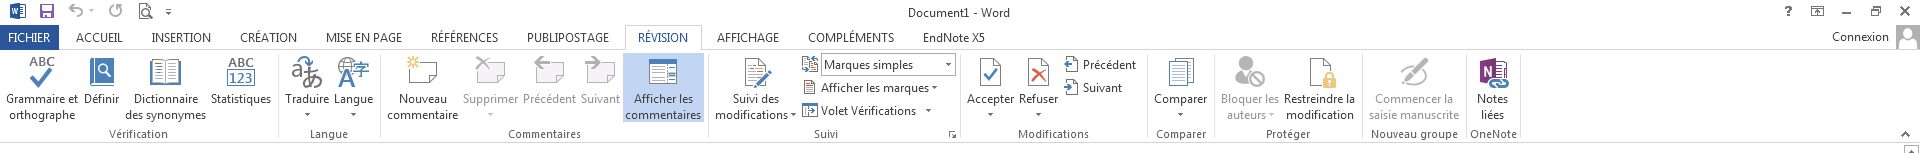texte: (649, 59, 771, 88), (409, 62, 564, 83), (29, 58, 114, 88), (230, 64, 322, 88), (1833, 24, 1920, 49), (1019, 120, 1089, 148), (804, 80, 937, 94), (1084, 48, 1136, 81), (109, 119, 167, 147), (909, 0, 969, 27), (10, 102, 75, 126), (1404, 102, 1460, 126), (873, 48, 913, 81), (10, 2, 83, 20), (629, 84, 676, 110), (809, 31, 894, 42), (1064, 80, 1122, 95), (1480, 58, 1509, 88), (354, 56, 419, 69), (535, 56, 600, 69), (1310, 58, 1336, 88), (109, 2, 153, 20), (432, 31, 498, 42), (212, 94, 271, 106), (1898, 21, 1920, 53), (528, 33, 609, 42), (1402, 58, 1428, 84), (1222, 94, 1278, 106), (716, 110, 796, 119), (464, 94, 518, 106), (1376, 94, 1452, 103), (624, 110, 700, 119), (1155, 94, 1207, 106), (327, 33, 402, 42), (7, 94, 78, 103), (509, 130, 580, 138), (241, 31, 296, 42), (733, 84, 757, 110), (1284, 94, 1354, 103), (967, 94, 1014, 106), (823, 102, 846, 126), (1287, 110, 1353, 119), (980, 58, 1000, 84), (851, 106, 916, 115), (149, 113, 206, 122), (135, 94, 198, 103), (825, 60, 869, 72), (639, 31, 687, 42), (718, 33, 779, 42), (924, 33, 984, 42), (388, 111, 458, 119), (152, 33, 211, 42), (1157, 130, 1206, 140), (678, 84, 697, 110), (1267, 129, 1310, 140), (1236, 71, 1265, 87), (336, 94, 373, 106), (973, 22, 988, 53), (524, 94, 576, 103), (802, 102, 819, 126), (1265, 84, 1281, 110), (76, 33, 122, 42), (400, 94, 446, 103), (1471, 130, 1516, 138), (285, 94, 329, 103), (1371, 130, 1416, 138), (311, 130, 347, 140), (582, 94, 620, 103), (1020, 94, 1058, 103), (84, 94, 119, 103), (1228, 111, 1265, 119), (1420, 132, 1457, 140), (700, 22, 709, 53), (1478, 94, 1509, 103), (228, 58, 253, 67), (69, 84, 78, 110), (1064, 56, 1078, 72), (29, 58, 54, 66), (986, 9, 1009, 17), (1482, 110, 1504, 119), (816, 130, 838, 138), (1239, 56, 1253, 70), (1370, 113, 1397, 119), (298, 56, 313, 66), (126, 110, 143, 119), (763, 94, 779, 103), (476, 58, 489, 69), (1811, 6, 1824, 16), (1900, 6, 1910, 16), (38, 33, 48, 42), (1401, 66, 1414, 72), (793, 102, 796, 126), (949, 131, 956, 138), (905, 86, 910, 95), (947, 62, 951, 66), (305, 113, 310, 116), (351, 113, 356, 116), (926, 109, 931, 113), (988, 113, 993, 116), (1036, 113, 1041, 116), (1178, 113, 1183, 116), (1842, 12, 1851, 13), (861, 106, 863, 108), (973, 13, 977, 13)
